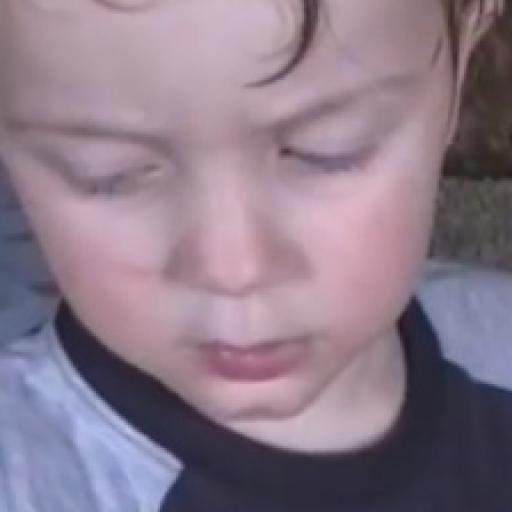Autism: (0, 0, 469, 448)
